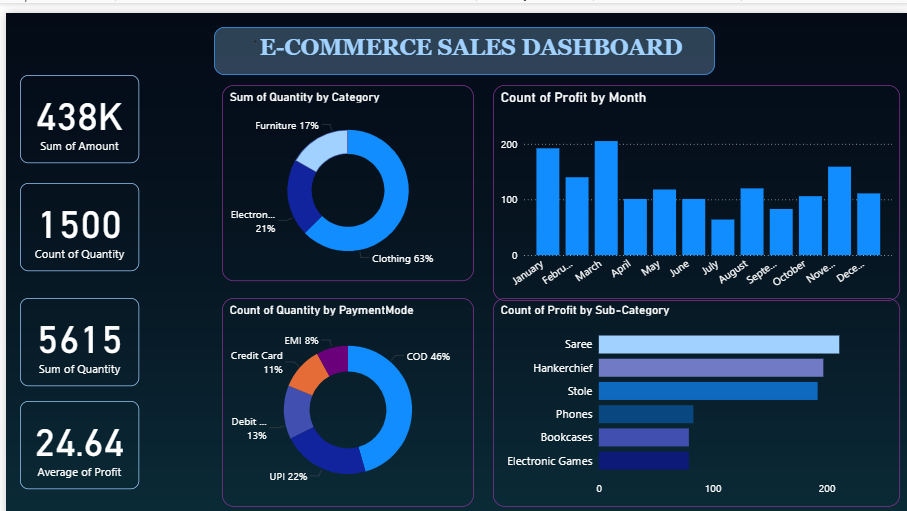

Layout of this report page (visuals, bound fields, positions):
{"tool":"powerbi","page":{"name":"Page 1","canvas":[1280,720],"ordinal":0},"visuals":[{"type":"textbox","box":[294.8,19.8,710.2,68],"z":0},{"type":"columnChart","fields":{"Category":["Orderspowrbi.Order Date.Variation.Date Hierarchy.Month"],"Y":["CountNonNull(Detailspowerbi.Profit)"]},"box":[690.3,102.1,576.9,306.2],"z":1000},{"type":"barChart","fields":{"Y":["CountNonNull(Detailspowerbi.Profit)"],"Category":["Detailspowerbi.Sub-Category"]},"box":[690.2,403.9,576.9,296.2],"z":2000},{"type":"donutChart","fields":{"Category":["Detailspowerbi.Category"],"Y":["Sum(Detailspowerbi.Quantity)"]},"box":[306.2,102.1,357.2,277.8],"z":3000},{"type":"donutChart","fields":{"Y":["CountNonNull(Detailspowerbi.Quantity)"],"Category":["Detailspowerbi.PaymentMode"]},"box":[306.1,403.9,357.2,296.2],"z":4000},{"type":"card","fields":{"Values":["Sum(Detailspowerbi.Amount)"]},"box":[19.8,87.9,168.7,124.7],"z":5000},{"type":"card","fields":{"Values":["CountNonNull(Detailspowerbi.Quantity)"]},"box":[19.8,240.9,168.7,124.7],"z":6000},{"type":"card","fields":{"Values":["Sum(Detailspowerbi.Quantity)"]},"box":[19.8,403.9,168.7,124.7],"z":7000},{"type":"card","fields":{"Values":["Avg(Detailspowerbi.Profit)"]},"box":[19.8,549.9,168.7,124.7],"z":8000}]}

Visuals, with their boxes in screenshot pixels (x1, y1, x2, y2), scaled from the page's 1280x720 canvas onto the 907x511 screenshot:
textbox: Rect(209, 14, 712, 62)
columnChart - Orderspowrbi.Order Date.Variation.Date Hierarchy.Month x CountNonNull(Detailspowerbi.Profit): Rect(489, 72, 898, 290)
barChart - CountNonNull(Detailspowerbi.Profit) x Detailspowerbi.Sub-Category: Rect(489, 287, 898, 497)
donutChart - Detailspowerbi.Category x Sum(Detailspowerbi.Quantity): Rect(217, 72, 470, 270)
donutChart - CountNonNull(Detailspowerbi.Quantity) x Detailspowerbi.PaymentMode: Rect(217, 287, 470, 497)
card - Sum(Detailspowerbi.Amount): Rect(14, 62, 134, 151)
card - CountNonNull(Detailspowerbi.Quantity): Rect(14, 171, 134, 259)
card - Sum(Detailspowerbi.Quantity): Rect(14, 287, 134, 375)
card - Avg(Detailspowerbi.Profit): Rect(14, 390, 134, 479)
